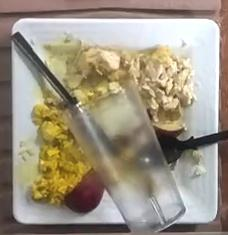chicken: (57, 39, 193, 112)
potato: (65, 169, 104, 213), (151, 119, 185, 138)
rice: (31, 101, 89, 202)
